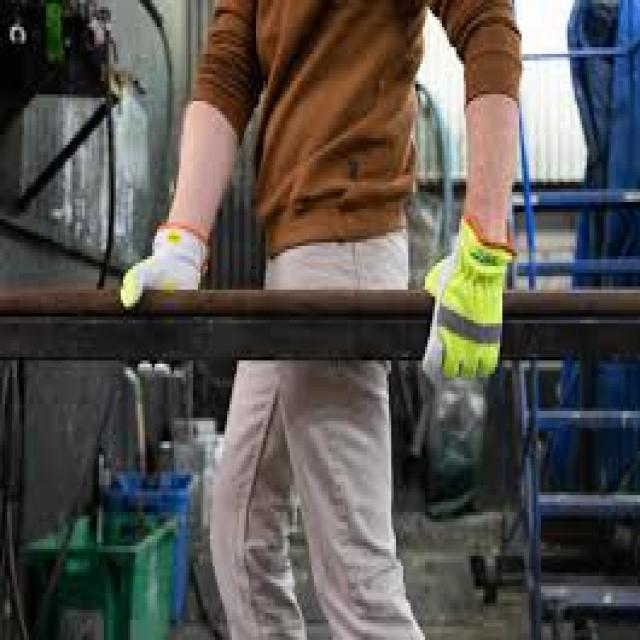gloved: (420, 212, 517, 381), (118, 219, 210, 310)
